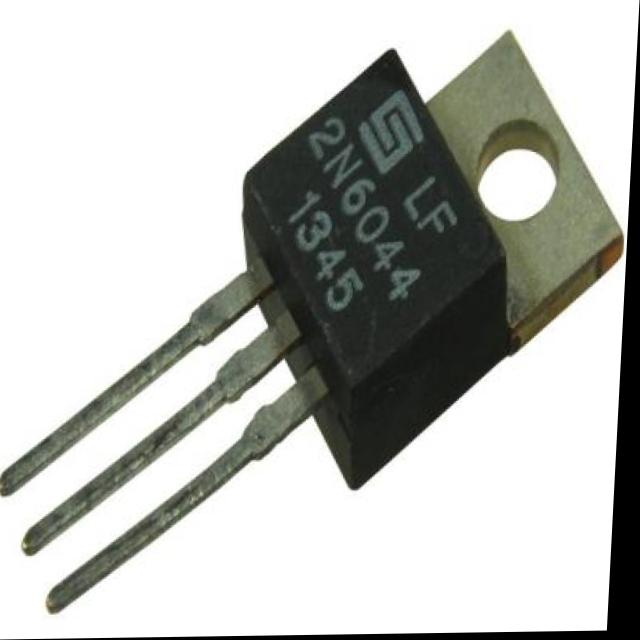Transistor: (244, 51, 527, 493)
